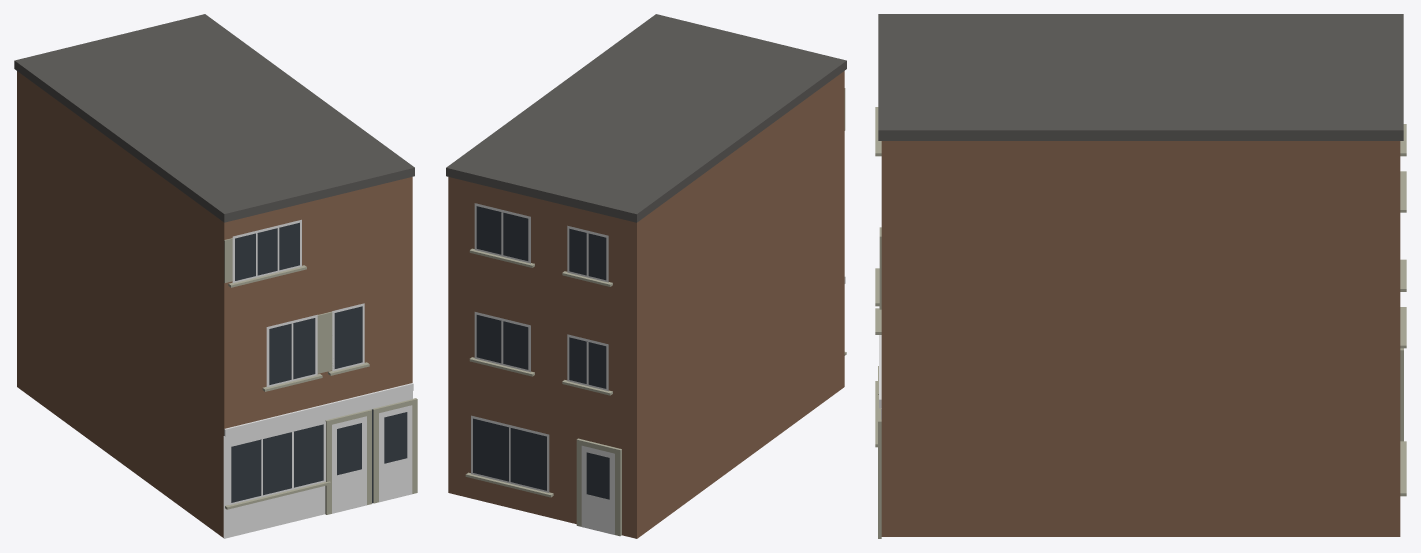
Rendered from nw-aw-lomond__red__3__flat__long__solid__mirror.glb.
3 views of the same model, side by side, from view 1: azimuth 30°, elevation 25°; view 2: azimuth 150°, elevation 25°; view 3: azimuth 270°, elevation 25° (orthographic). The views are drawn at different scales.
Visible parts, largest first — view 1: nw-aw-lomond__red__3__flat__long__solid__mirror; view 2: nw-aw-lomond__red__3__flat__long__solid__mirror; view 3: nw-aw-lomond__red__3__flat__long__solid__mirror.
Part boxes in pixels (x1,y1,x2,y2): nw-aw-lomond__red__3__flat__long__solid__mirror: (14,14,417,538); nw-aw-lomond__red__3__flat__long__solid__mirror: (446,14,846,538); nw-aw-lomond__red__3__flat__long__solid__mirror: (875,14,1406,538).
Size of the model in its own units: 5.21 by 8.4 by 9.93.
